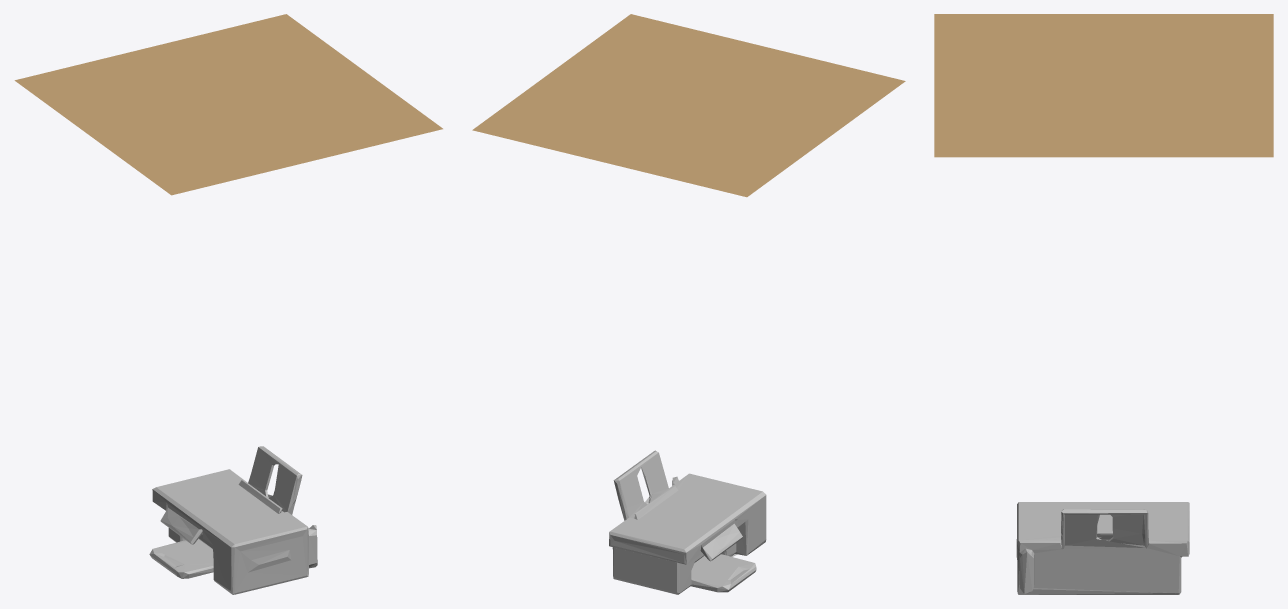
File: init.glb
3 renders of one model, left to right at view 1: azimuth 30°, elevation 25°; view 2: azimuth 150°, elevation 25°; view 3: azimuth 270°, elevation 25°, orthographic. The views are drawn at different scales.
Parts seen in each view (by area): view 1: world, object.obj; view 2: world, object.obj; view 3: world, object.obj.
Boxes of the visible parts, <box> form: world: <box>14,14,442,195</box>; object.obj: <box>149,446,317,594</box>; world: <box>472,14,905,197</box>; object.obj: <box>609,450,766,594</box>; world: <box>934,14,1273,157</box>; object.obj: <box>1016,502,1189,594</box>.
Size of the model in its own units: 0.6278 by 0.9991 by 0.6278.
